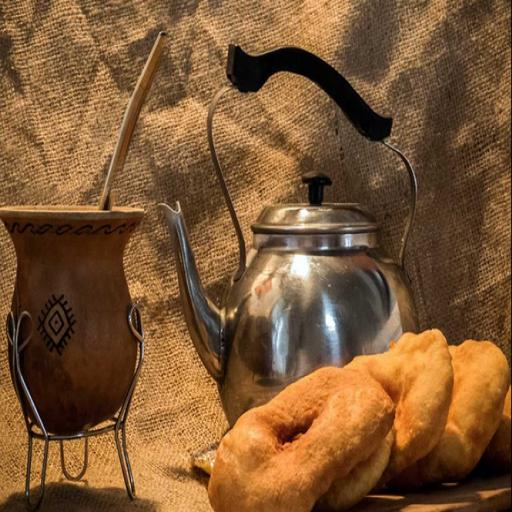bolleria: (209, 368, 394, 511), (345, 330, 453, 483)
mate: (0, 207, 144, 510)
